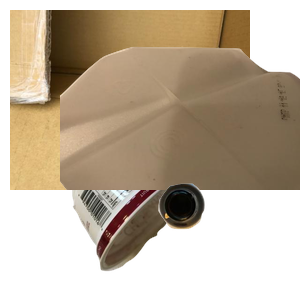cardboard: (10, 10, 250, 190)
glass: (156, 181, 300, 300)
plastic: (60, 44, 300, 224)
trash: (70, 149, 254, 300)
